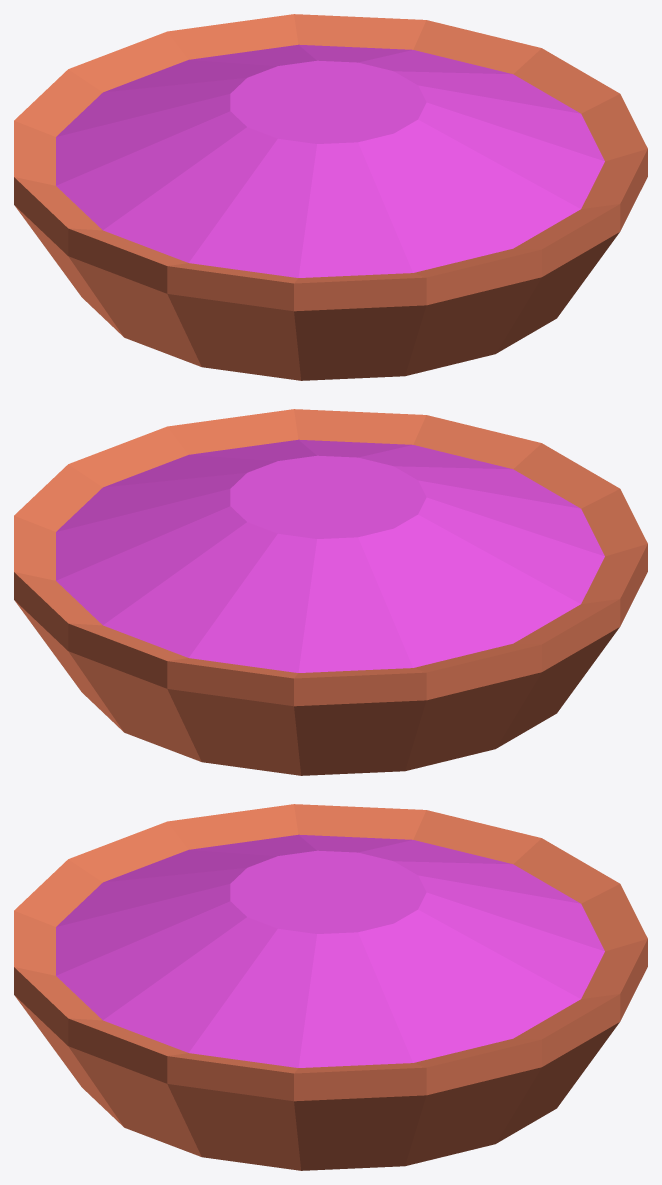
File: Pie-tasty.fbx
3 views of the same model, one above another, from view 1: azimuth 30°, elevation 25°; view 2: azimuth 150°, elevation 25°; view 3: azimuth 270°, elevation 25° (orthographic).
Parts seen in each view (by area): view 1: Cylinder; view 2: Cylinder; view 3: Cylinder.
Part boxes in pixels (x1,y1,x2,y2): Cylinder: (14, 14, 647, 380); Cylinder: (14, 409, 647, 775); Cylinder: (14, 804, 647, 1170).
Size of the model in its own units: 254 by 75.94 by 252.
